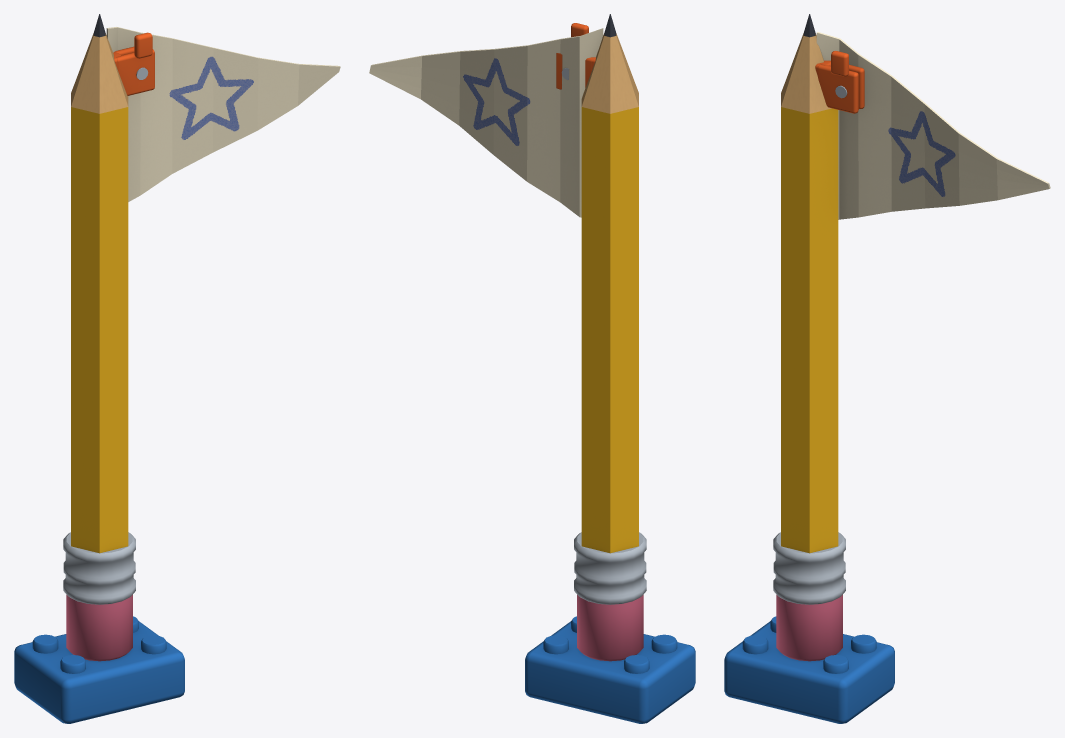
File: pencil-flagpole.fbx
The picture shows the model from 3 angles, left to right: view 1: azimuth 30°, elevation 25°; view 2: azimuth 150°, elevation 25°; view 3: azimuth 330°, elevation 25°; orthographic projection.
Visible parts, largest first — view 1: pencil-flagpole; view 2: pencil-flagpole; view 3: pencil-flagpole.
Boxes of the visible parts, left/top/right/bottom form: pencil-flagpole: left=14, top=14, right=340, bottom=723; pencil-flagpole: left=369, top=14, right=695, bottom=723; pencil-flagpole: left=724, top=14, right=1050, bottom=723.
Bounding box in the file's own units: 1950 × 4200 × 600.
1 material, 1 textured.
